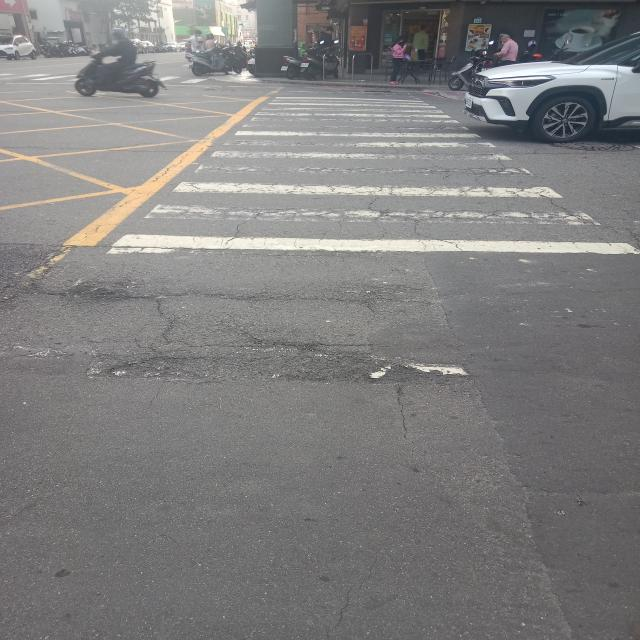person: (97, 28, 137, 86), (495, 34, 518, 66), (390, 36, 405, 85), (413, 25, 428, 60), (188, 30, 205, 52), (205, 34, 215, 50)
zebra crossing: (96, 88, 640, 265)
